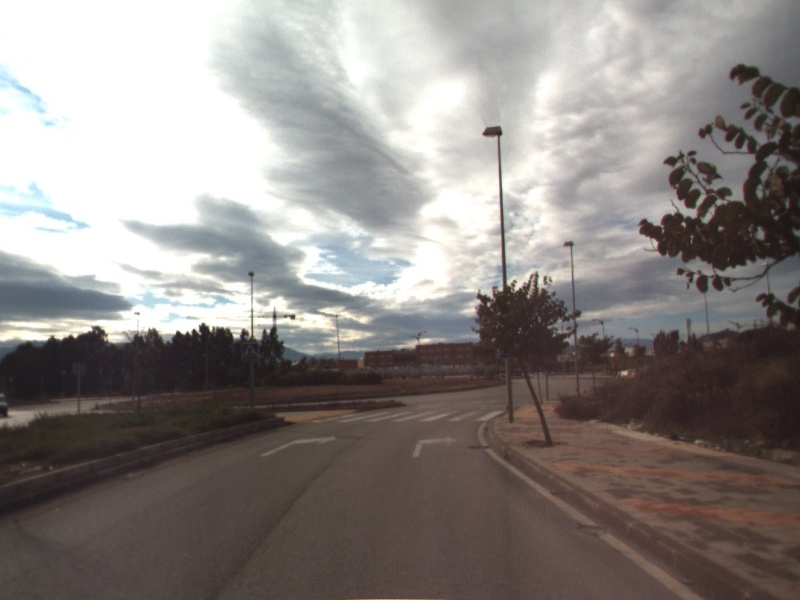RIGHT: (257, 432, 339, 458), (410, 433, 460, 460)
